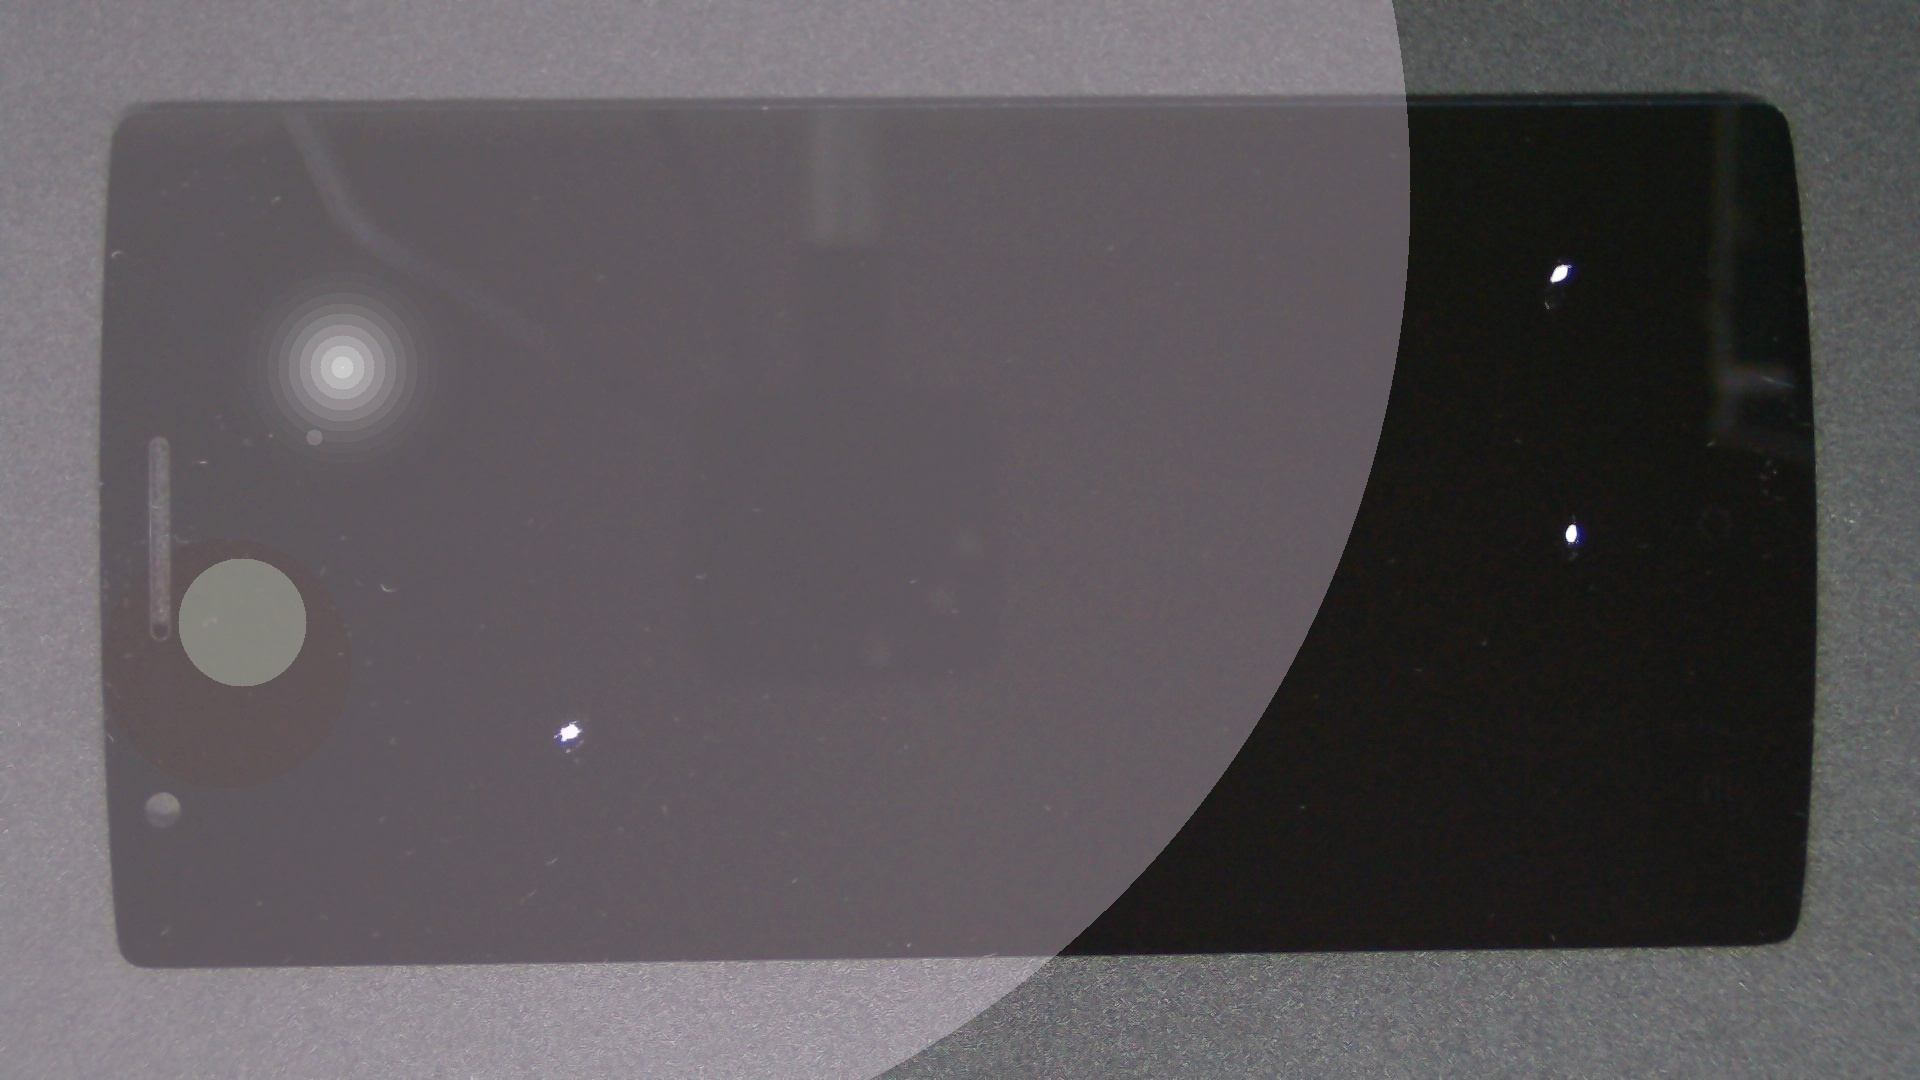oil: (786, 261, 1920, 786), (289, 360, 864, 1080), (291, 369, 873, 1080), (284, 373, 849, 1080), (781, 131, 1920, 397)
